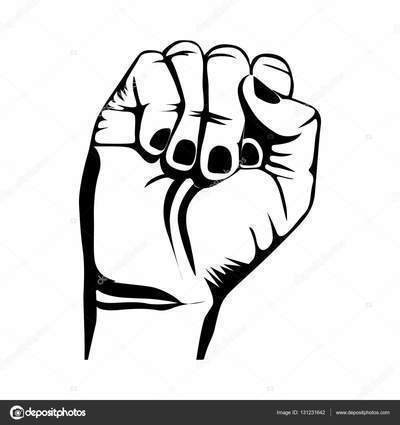closedhandfront: (62, 22, 335, 299)
